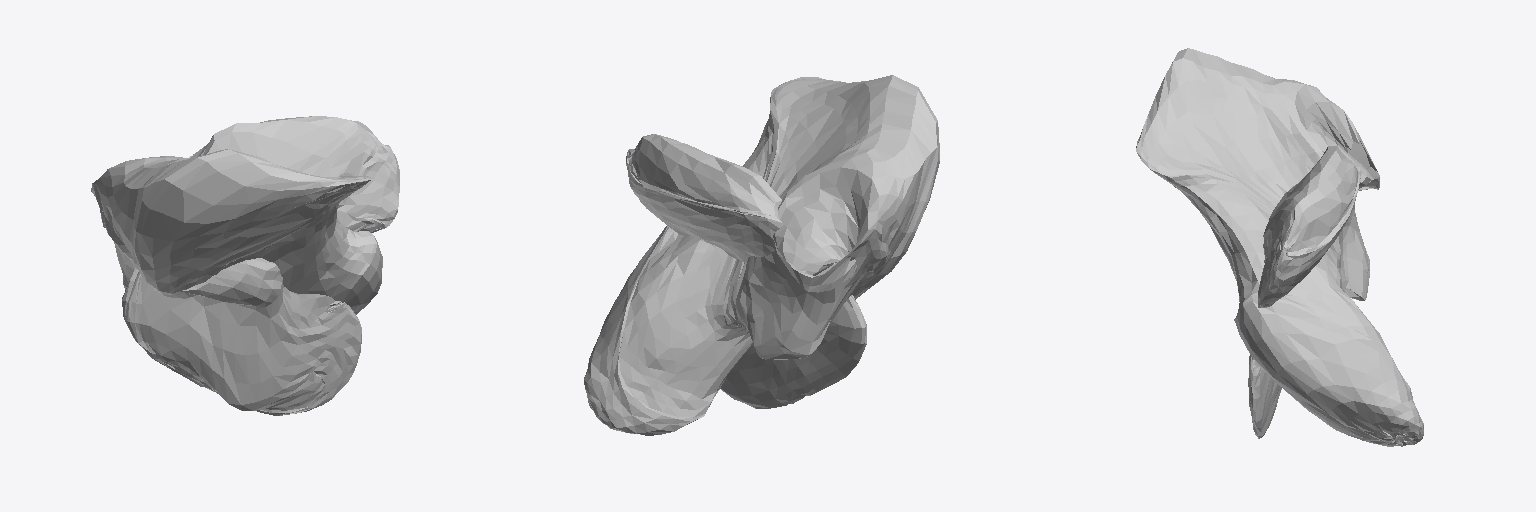
The model's file is r_femur_1.obj.
The picture shows the model from 3 angles: view 1: azimuth 30°, elevation 25°; view 2: azimuth 150°, elevation 25°; view 3: azimuth 270°, elevation 25°; orthographic projection.
Parts seen in each view (by area): view 1: r_femur; view 2: r_femur; view 3: r_femur.
Part boxes in pixels (x1,y1,x2,y2): r_femur: (91, 116, 399, 415); r_femur: (584, 75, 939, 435); r_femur: (1136, 48, 1423, 446).
Size of the model in its own units: 0.0359 by 0.0388 by 0.0315.